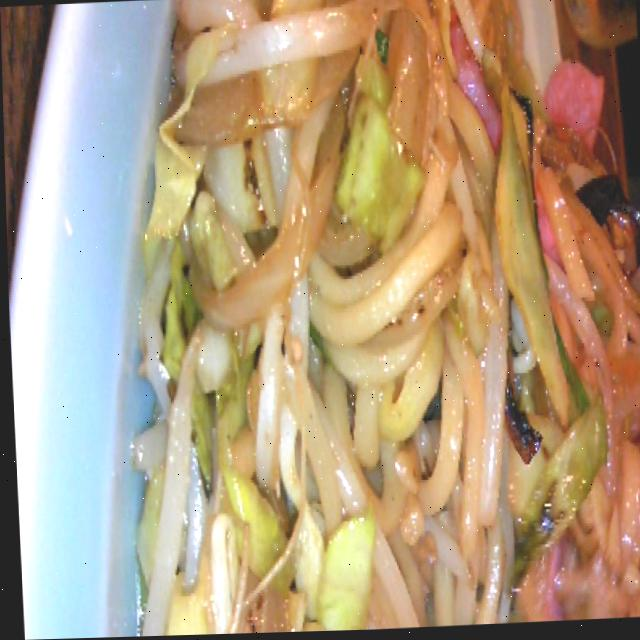蔬菜料理: (91, 0, 640, 638)
